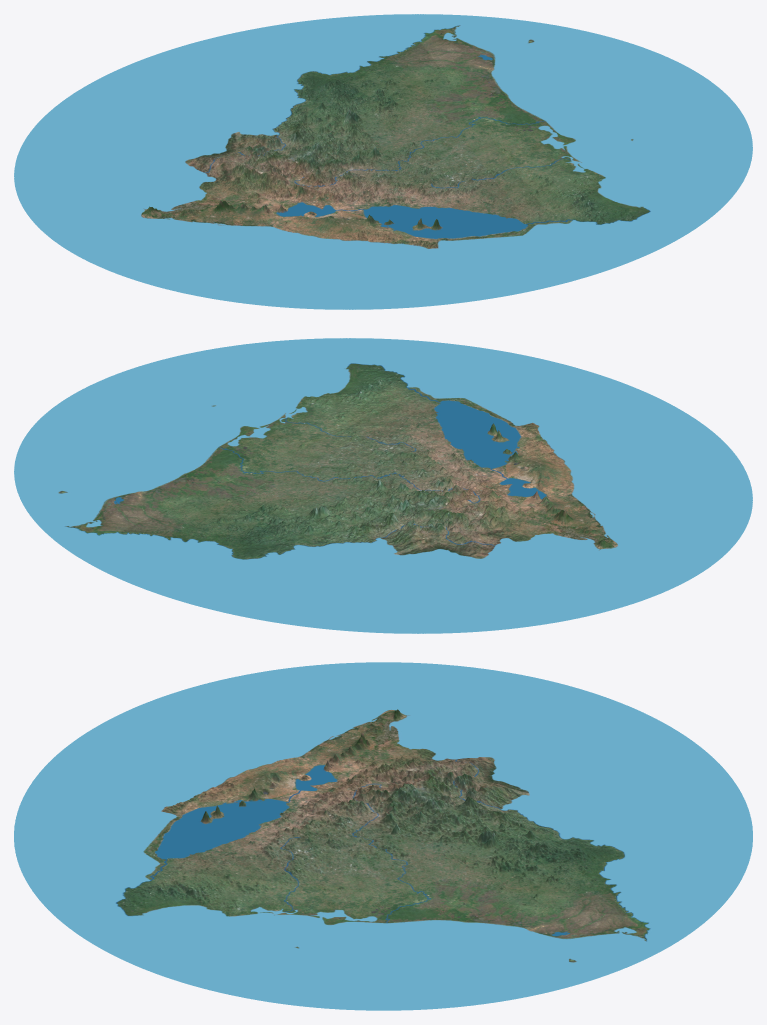
Rendered from NIC-previa-terrain.glb.
3 renders of one model, top to bottom at view 1: azimuth 30°, elevation 25°; view 2: azimuth 150°, elevation 25°; view 3: azimuth 270°, elevation 25°, orthographic. The views are drawn at different scales.
Visible parts, largest first — view 1: Nicarágua; view 2: Nicarágua; view 3: Nicarágua.
Boxes of the visible parts, left/top/right/bottom form: Nicarágua: left=14, top=14, right=752, bottom=309; Nicarágua: left=14, top=338, right=752, bottom=633; Nicarágua: left=14, top=662, right=752, bottom=1010.
Bounding box in the file's own units: 2.42 × 0.0464 × 2.17.
1 material, 1 textured.
